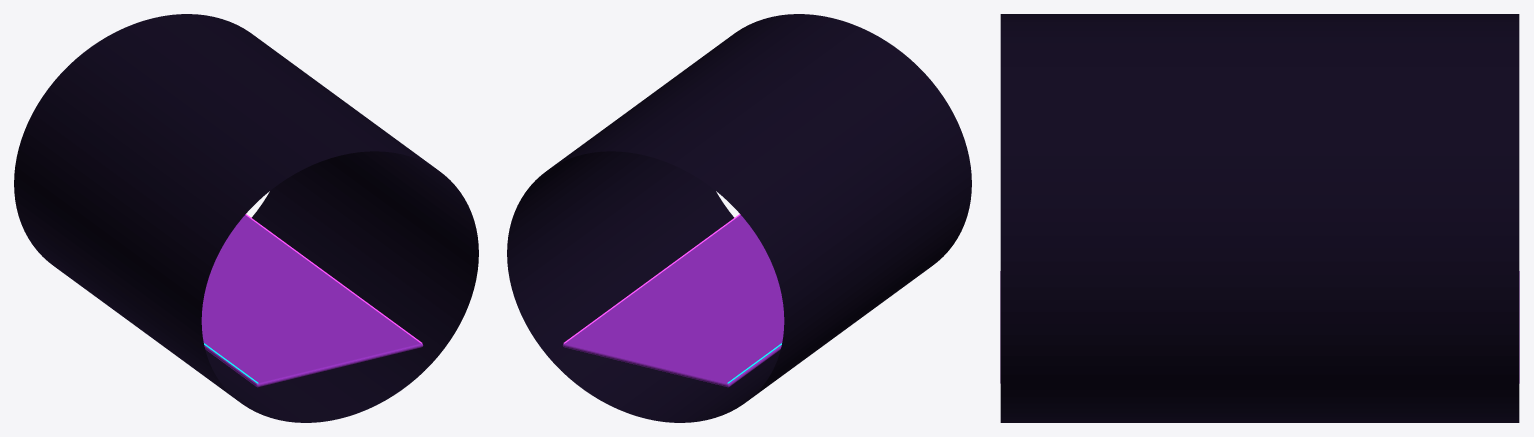
Rendered from neon_ring_corridor_shell.glb.
The picture shows the model from 3 angles, left to right: view 1: azimuth 30°, elevation 25°; view 2: azimuth 150°, elevation 25°; view 3: azimuth 270°, elevation 25°; orthographic projection. The views are drawn at different scales.
Parts seen in each view (by area): view 1: Continuous Dark Tunnel Shell, Reflective Gameplay Podium; view 2: Continuous Dark Tunnel Shell, Reflective Gameplay Podium; view 3: Continuous Dark Tunnel Shell.
Part boxes in pixels (x1=…): Continuous Dark Tunnel Shell: x1=14, y1=14, x2=478, y2=422; Reflective Gameplay Podium: x1=201, y1=215, x2=423, y2=387; Continuous Dark Tunnel Shell: x1=507, y1=14, x2=971, y2=422; Reflective Gameplay Podium: x1=562, y1=215, x2=784, y2=387; Continuous Dark Tunnel Shell: x1=1000, y1=14, x2=1519, y2=422.
Size of the model in its own units: 15.44 by 14 by 18.12.
